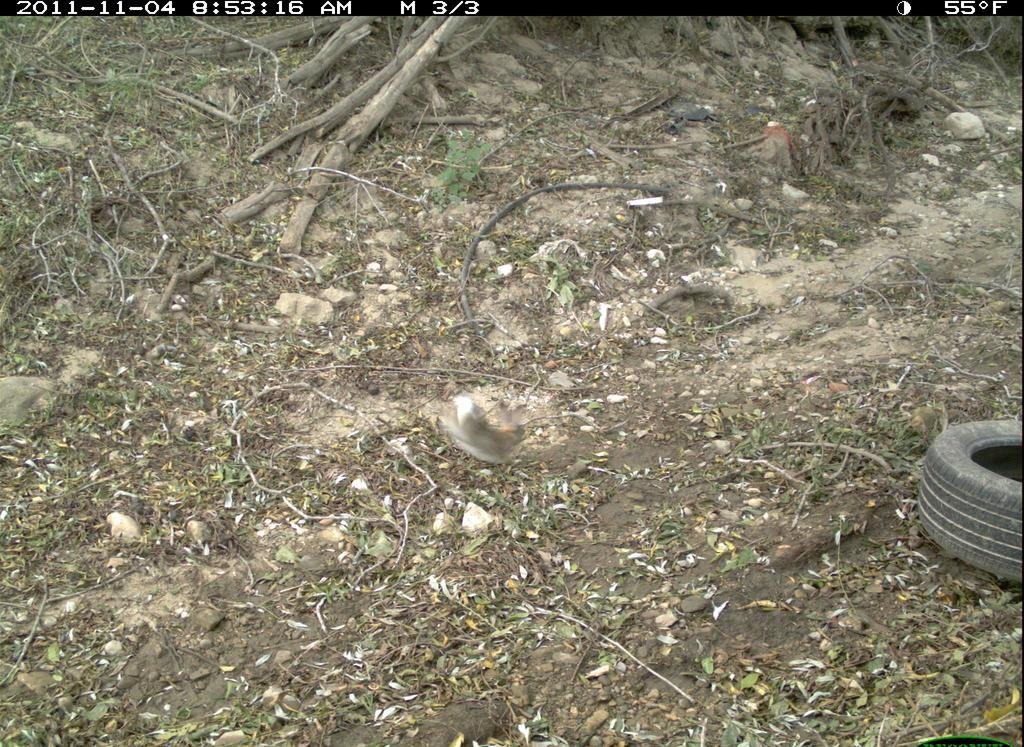rabbit: (428, 377, 545, 477)
